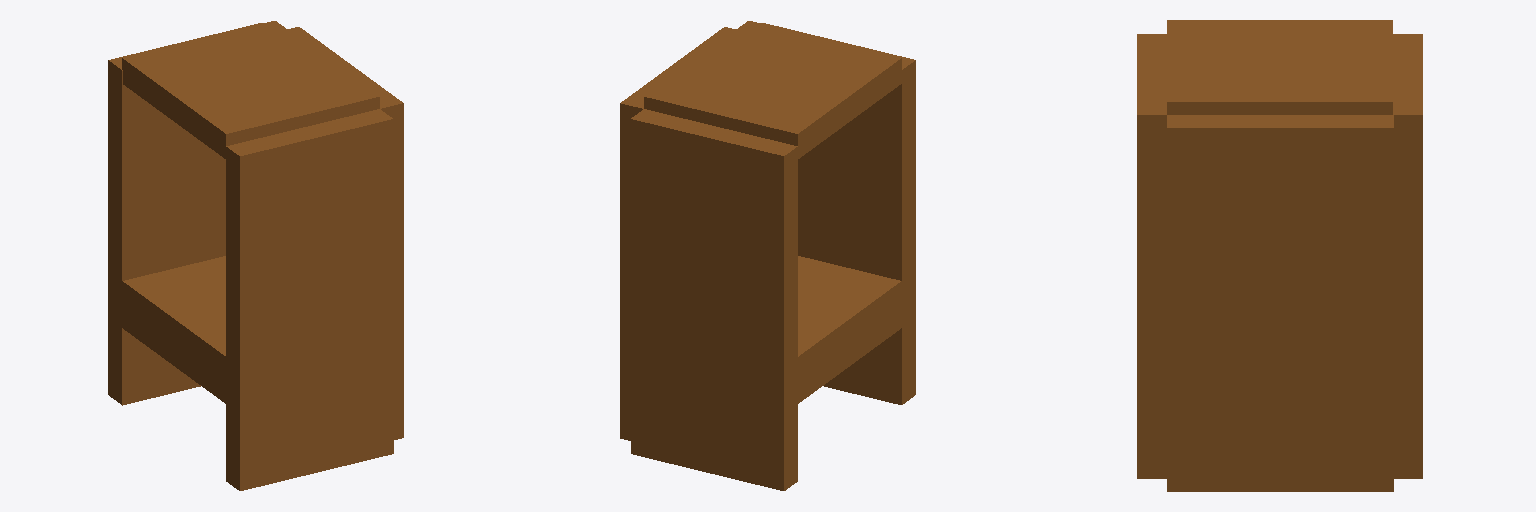
The robot description file, URDF, robot "dummy":
<?xml version="1.0"?>
<robot name="dummy">
  <link name="bottom_wall">
    <visual>
      <origin xyz="0.0 0.0 0.1175040087267487" rpy="0 0 0"/>
      <geometry>
        <mesh filename="bottom_wall.obj" scale="1 1 1"/>
      </geometry>
      <material name="brown">
        <color rgba="0.6 0.4 0.2 1.0"/>
      </material>
    </visual>
    <collision>
      <origin xyz="0.0 0.0 0.1175040087267487" rpy="0 0 0"/>
      <geometry>
        <mesh filename="bottom_wall.obj" scale="1 1 1"/>
      </geometry>
    </collision>
  </link>

  <link name="left_wall">
    <visual>
      <origin xyz="0.0 -0.16193700417642878 0.0" rpy="0 0 0"/>
      <geometry>
        <mesh filename="vertical_wall.obj" scale="1 1 1"/>
      </geometry>
      <material name="brown">
        <color rgba="0.6 0.4 0.2 1.0"/>
      </material>
    </visual>
    <collision>
      <origin xyz="0.0 -0.16193700417642878 0.0" rpy="0 0 0"/>
      <geometry>
        <mesh filename="vertical_wall.obj" scale="1 1 1"/>
      </geometry>
    </collision>
  </link>

  <link name="right_wall">
    <visual>
      <origin xyz="0.0 0.16193700417642878 0.0" rpy="0 0 0"/>
      <geometry>
        <mesh filename="vertical_wall.obj" scale="1 1 1"/>
      </geometry>
      <material name="brown">
        <color rgba="0.6 0.4 0.2 1.0"/>
      </material>
    </visual>
    <collision>
      <origin xyz="0.0 0.16193700417642878 0.0" rpy="0 0 0"/>
      <geometry>
        <mesh filename="vertical_wall.obj" scale="1 1 1"/>
      </geometry>
    </collision>
  </link>

  <link name="back_wall">
    <visual>
      <origin xyz="0.14046085440070993 0.0 0.0" rpy="0 0 0"/>
      <geometry>
        <mesh filename="back_wall.obj" scale="1 1 1"/>
      </geometry>
      <material name="brown">
        <color rgba="0.6 0.4 0.2 1.0"/>
      </material>
    </visual>
    <collision>
      <origin xyz="0.14046085440070993 0.0 0.0" rpy="0 0 0"/>
      <geometry>
        <mesh filename="back_wall.obj" scale="1 1 1"/>
      </geometry>
    </collision>
  </link>

  <link name="top_wall">
    <visual>
      <origin xyz="0.0 0.0 0.48910514233822555" rpy="0 0 0"/>
      <geometry>
        <mesh filename="top_wall.obj" scale="1 1 1"/>
      </geometry>
      <material name="brown">
        <color rgba="0.6 0.4 0.2 1.0"/>
      </material>
    </visual>
    <collision>
      <origin xyz="0.0 0.0 0.48910514233822555" rpy="0 0 0"/>
      <geometry>
        <mesh filename="top_wall.obj" scale="1 1 1"/>
      </geometry>
    </collision>
  </link>

  <joint name="left_wall_joint" type="fixed">
    <origin xyz="0 0 0" rpy="0 0 0"/>
    <parent link="bottom_wall"/>
    <child link="left_wall"/>
  </joint>

  <joint name="right_wall_joint" type="fixed">
    <origin xyz="0 0 0" rpy="0 0 0"/>
    <parent link="bottom_wall"/>
    <child link="right_wall"/>
  </joint>

  <joint name="back_wall_joint" type="fixed">
    <origin xyz="0 0 0" rpy="0 0 0"/>
    <parent link="bottom_wall"/>
    <child link="back_wall"/>
  </joint>

  <joint name="top_wall_joint" type="fixed">
    <origin xyz="0 0 0" rpy="0 0 0"/>
    <parent link="bottom_wall"/>
    <child link="top_wall"/>
  </joint>

</robot>

--- What the picture shows (computed from the rendered views, not written in the file) ---
The picture shows the robot from 3 angles, left to right: view 1: azimuth 30°, elevation 25°; view 2: azimuth 150°, elevation 25°; view 3: azimuth 270°, elevation 25°; orthographic projection.
Robot: dummy — 5 links, 4 joints (4 fixed); root link bottom_wall; default pose: all joints at 0.
Visible links, largest first — view 1: left_wall, right_wall, top_wall, bottom_wall, back_wall; view 2: right_wall, left_wall, top_wall, bottom_wall, back_wall; view 3: back_wall, top_wall, left_wall, right_wall.
Boxes of the visible links, left/top/right/bottom form: left_wall: left=226, top=109, right=393, bottom=490; right_wall: left=108, top=23, right=262, bottom=405; top_wall: left=122, top=21, right=379, bottom=158; bottom_wall: left=122, top=256, right=225, bottom=403; back_wall: left=288, top=27, right=403, bottom=439; right_wall: left=631, top=109, right=797, bottom=490; left_wall: left=761, top=23, right=915, bottom=404; top_wall: left=644, top=21, right=901, bottom=158; bottom_wall: left=798, top=256, right=901, bottom=403; back_wall: left=620, top=27, right=735, bottom=440; back_wall: left=1167, top=114, right=1393, bottom=491; top_wall: left=1167, top=20, right=1392, bottom=114; left_wall: left=1137, top=34, right=1166, bottom=478; right_wall: left=1393, top=34, right=1422, bottom=478.
Bounding box of the posed robot: 0.2826 × 0.363 × 0.5284 m (x, y, z).
Meshes: 4 distinct files referenced, 5 mesh visuals loaded (4 OBJ).
